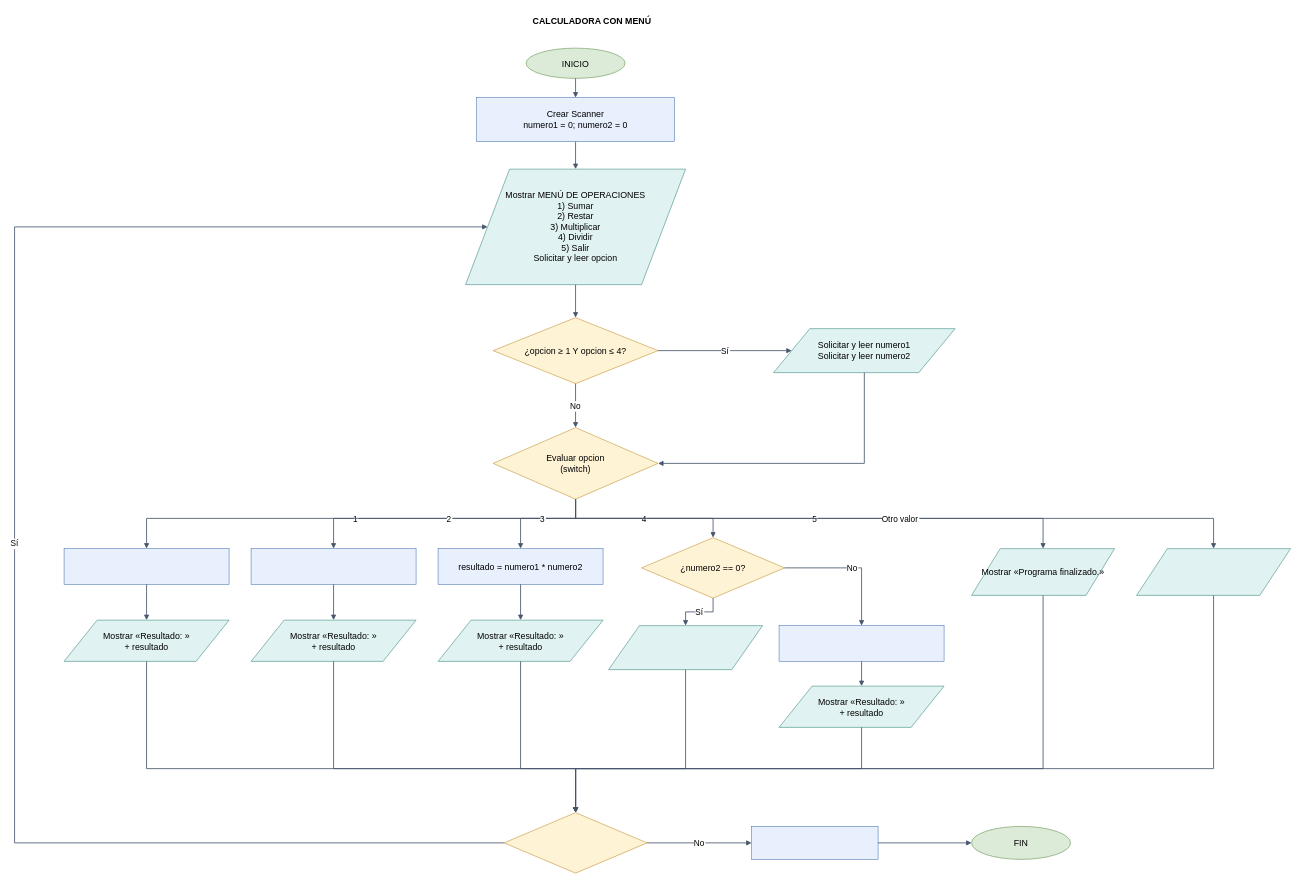
The diagram is 1300 pixels wide and 883 high, and some of its shapes have lost their labels. Each missing label, with the centre of its shape:
Mostrar «No se puede dividir entre cero.»: [685,647]
Mostrar «Opcion invalida. Elija de 1 a 5.»: [1213,571]
resultado = numero1 + numero2: [146,566]
resultado = numero1 - numero2: [333,566]
resultado = numero1 / numero2: [861,643]
scanner.close(): [814,842]
¿opcion ≠ 5?: [575,842]
